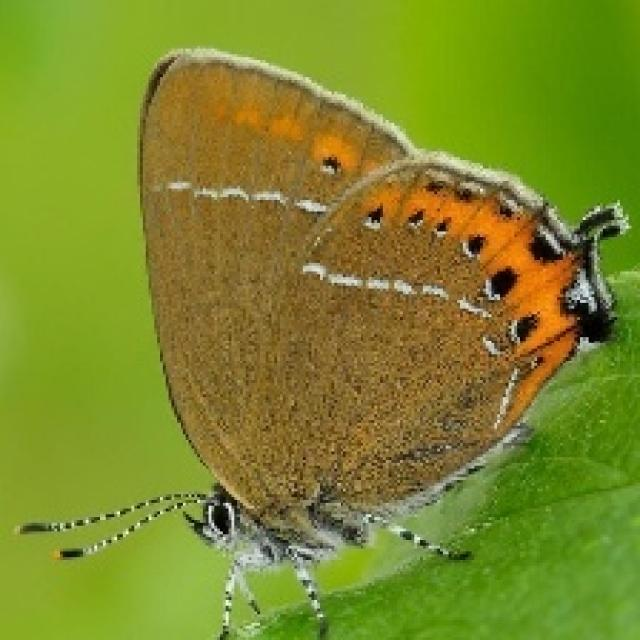butterfly: (11, 43, 628, 637)
